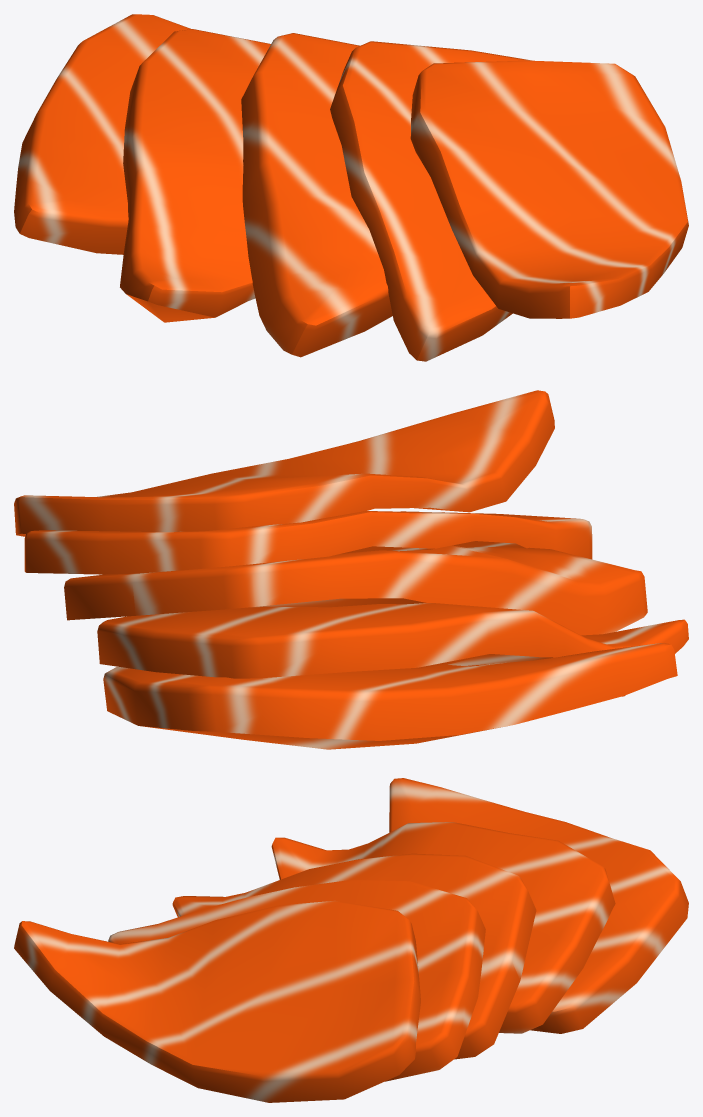
Rendered from SM_Fish_Sashimi.fbx.
The picture shows the model from 3 angles, top to bottom: view 1: azimuth 30°, elevation 25°; view 2: azimuth 150°, elevation 25°; view 3: azimuth 270°, elevation 25°; orthographic projection. The views are drawn at different scales.
Parts seen in each view (by area): view 1: Fish_Sashimi; view 2: Fish_Sashimi; view 3: Fish_Sashimi.
Part boxes in pixels (<box>): Fish_Sashimi: <box>14,14,688,361</box>; Fish_Sashimi: <box>14,390,688,749</box>; Fish_Sashimi: <box>14,778,688,1102</box>.
Size of the model in its own units: 107 by 27.08 by 115.
